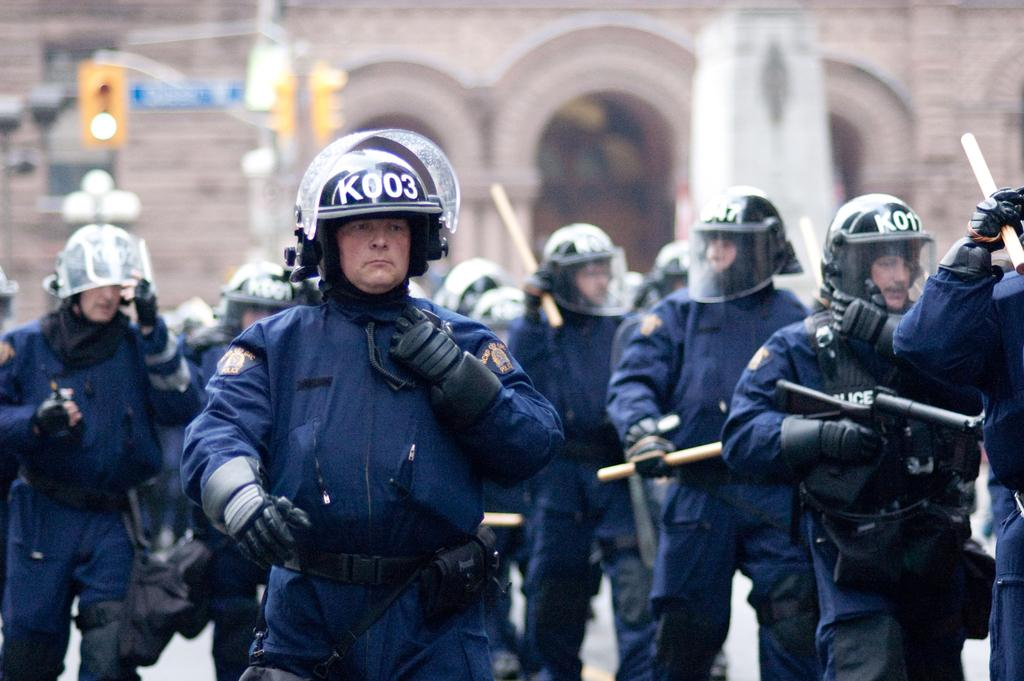helmet: (295, 129, 460, 283), (820, 193, 937, 312), (688, 185, 787, 304), (42, 223, 154, 314), (542, 223, 632, 316), (215, 261, 300, 344)
